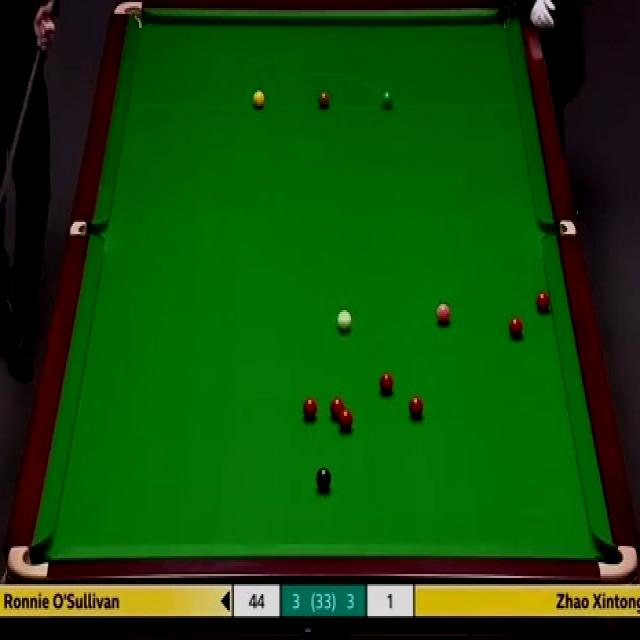pocket: (595, 545, 638, 583), (8, 545, 50, 580), (113, 0, 143, 28), (66, 218, 102, 238), (540, 220, 574, 235)
